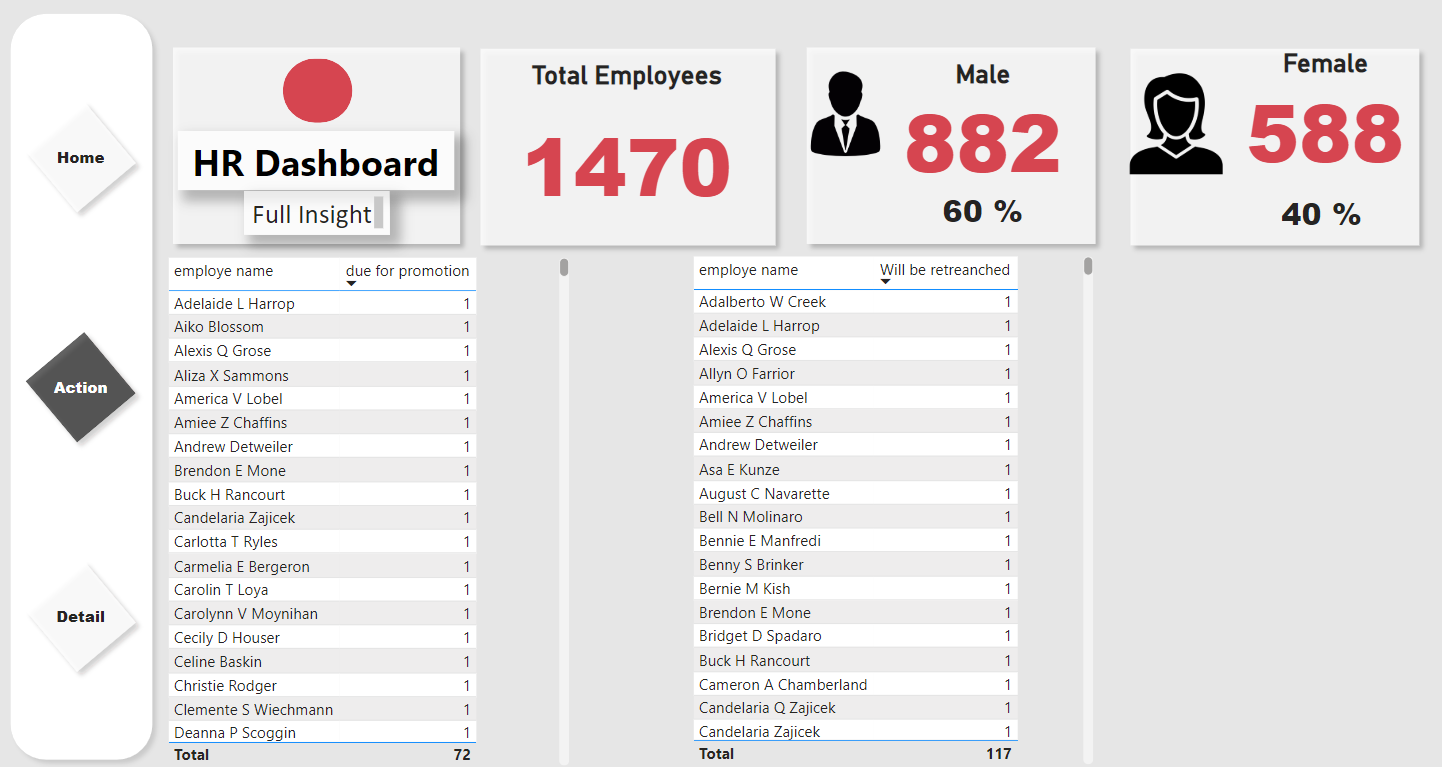

The dashboard page shown, as its layout file describes it:
{"tool":"powerbi","page":{"name":"Action","canvas":[1280,720],"ordinal":1},"visuals":[{"type":"shape","box":[10.1,46.3,142.8,673.8],"z":0},{"type":"shape","box":[152.3,75.5,270.3,190.7],"z":1000},{"type":"shape","box":[422.6,76.8,277.2,190.7],"z":2000},{"type":"shape","box":[709.4,75.5,271.7,190.7],"z":3000},{"type":"shape","box":[994.9,76.8,271.7,190.7],"z":4000},{"type":"textbox","box":[166,157.8,242.9,52.1],"z":5000},{"type":"textbox","box":[223.7,211.3,127.6,38.4],"z":6000},{"type":"shape","box":[258.4,94.9,61.3,56.5],"z":7000},{"type":"card","title":"Total Employees","fields":{"Values":["All MEASURES.Total Emp"]},"box":[458,95.5,205.1,151.7],"z":8000},{"type":"card","title":"Male","fields":{"Values":["All MEASURES.Male"]},"box":[769.9,95,207,111.9],"z":9000},{"type":"card","fields":{"Values":["All MEASURES.% male"]},"box":[831.6,207.9,84.3,42.1],"z":10000},{"type":"card","fields":{"Values":["All MEASURES.% Female"]},"box":[1129.4,210.7,84.3,42.1],"z":11000},{"type":"image","box":[710.8,101.1,84.3,84.3],"z":12000},{"type":"image","box":[994.6,101.1,98.3,101.1],"z":13000},{"type":"card","title":"Female","fields":{"Values":["All MEASURES.Female"]},"box":[1092.9,84.3,163,115.2],"z":14000},{"type":"tableEx","fields":{"Values":["HR Analytics Data.HR employee data.1.Emplyee name","All MEASURES.due for promotion"]},"box":[152,264.7,363.2,456.1],"z":15000},{"type":"tableEx","fields":{"Values":["HR Analytics Data.HR employee data.1.Emplyee name","All MEASURES.Will be retranshed service"]},"box":[612.8,264,362.8,455.8],"z":16000},{"type":"pageNavigator","box":[23.1,90.4,115.6,586.5],"z":17000}]}

Visuals, with their boxes on the page's 1280x720 design canvas (x1, y1, x2, y2). These are canvas units, not pixel positions in the 1442x767 screenshot, which may show the page scaled, cropped or inside an application window:
shape: bbox=[10, 46, 153, 720]
shape: bbox=[152, 76, 423, 266]
shape: bbox=[423, 77, 700, 268]
shape: bbox=[709, 76, 981, 266]
shape: bbox=[995, 77, 1267, 268]
textbox: bbox=[166, 158, 409, 210]
textbox: bbox=[224, 211, 351, 250]
shape: bbox=[258, 95, 320, 151]
"Total Employees" card: bbox=[458, 96, 663, 247]
"Male" card: bbox=[770, 95, 977, 207]
card - All MEASURES.% male: bbox=[832, 208, 916, 250]
card - All MEASURES.% Female: bbox=[1129, 211, 1214, 253]
image: bbox=[711, 101, 795, 185]
image: bbox=[995, 101, 1093, 202]
"Female" card: bbox=[1093, 84, 1256, 200]
tableEx - HR Analytics Data.HR employee data.1.Emplyee name x All MEASURES.due for promotion: bbox=[152, 265, 515, 721]
tableEx - HR Analytics Data.HR employee data.1.Emplyee name x All MEASURES.Will be retranshed service: bbox=[613, 264, 976, 720]
pageNavigator: bbox=[23, 90, 139, 677]
